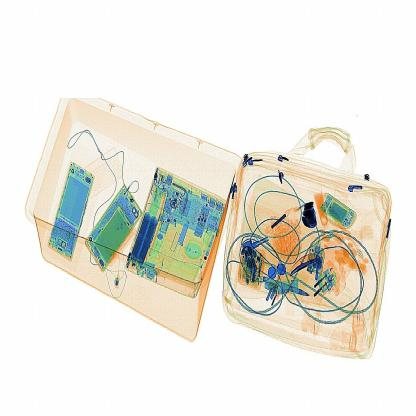pliers: (288, 250, 322, 275)
